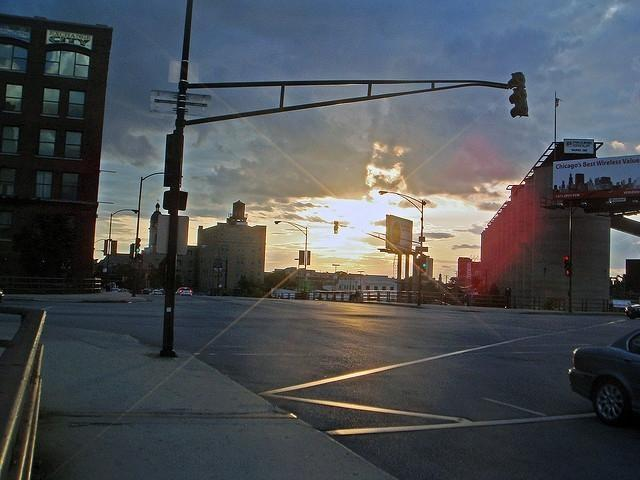car: (570, 327, 640, 424), (625, 302, 640, 320), (176, 286, 192, 296), (140, 287, 152, 294), (152, 290, 163, 294), (112, 287, 120, 292), (118, 288, 128, 292)
